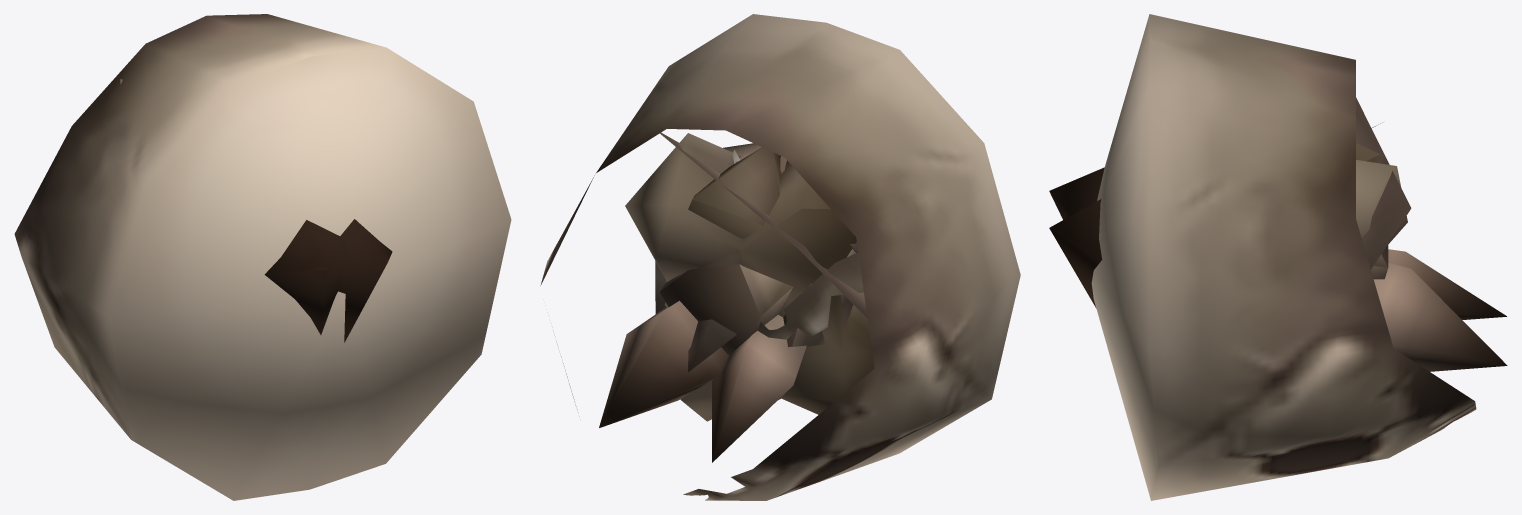
File: model_shatter.glb
3 views of the same model, side by side, from view 1: azimuth 30°, elevation 25°; view 2: azimuth 150°, elevation 25°; view 3: azimuth 270°, elevation 25° (orthographic). The views are drawn at different scales.
Visible parts, largest first — view 1: parts.model_shatter-MeshSets[mesh_skull].Mesh[0], parts.model_shatter-MeshSets[mesh_bicep_l].Mesh[0], parts.model_shatter-MeshSets[mesh_bicep_r].Mesh[0]; view 2: parts.model_shatter-MeshSets[mesh_skull].Mesh[0], parts.model_shatter-MeshSets[mesh_wrist_l].Mesh[0], parts.model_shatter-MeshSets[mesh_bicep_l].Mesh[0], parts.model_shatter-MeshSets[mesh_bicep_r].Mesh[0], parts.model_shatter-MeshSets[mesh_spine_top].Mesh[0], parts.model_shatter-MeshSets[mesh__wrist1_r].Mesh[0], parts.model_shatter-MeshSets[mesh_jaw].Mesh[0], parts.model_shatter-MeshSets[mesh_shoulder_r].Mesh[0], parts.model_shatter-MeshSets[mesh_spine_bottom].Mesh[0], parts.model_shatter-MeshSets[mesh_rib_r].Mesh[0]; view 3: parts.model_shatter-MeshSets[mesh_skull].Mesh[0], parts.model_shatter-MeshSets[mesh_bicep_l].Mesh[0], parts.model_shatter-MeshSets[mesh_bicep_r].Mesh[0], parts.model_shatter-MeshSets[mesh_shoulder_l].Mesh[0], parts.model_shatter-MeshSets[mesh_wrist_l].Mesh[0].
Boxes of the visible parts, x1=… form: parts.model_shatter-MeshSets[mesh_skull].Mesh[0]: x1=14, y1=14, x2=511, y2=500; parts.model_shatter-MeshSets[mesh_bicep_l].Mesh[0]: x1=264, y1=220, x2=351, y2=334; parts.model_shatter-MeshSets[mesh_bicep_r].Mesh[0]: x1=338, y1=219, x2=392, y2=342; parts.model_shatter-MeshSets[mesh_skull].Mesh[0]: x1=540, y1=14, x2=1020, y2=500; parts.model_shatter-MeshSets[mesh_wrist_l].Mesh[0]: x1=625, y1=133, x2=874, y2=421; parts.model_shatter-MeshSets[mesh_bicep_l].Mesh[0]: x1=599, y1=300, x2=728, y2=427; parts.model_shatter-MeshSets[mesh_bicep_r].Mesh[0]: x1=712, y1=315, x2=806, y2=462; parts.model_shatter-MeshSets[mesh_spine_top].Mesh[0]: x1=660, y1=264, x2=792, y2=355; parts.model_shatter-MeshSets[mesh__wrist1_r].Mesh[0]: x1=688, y1=147, x2=781, y2=399; parts.model_shatter-MeshSets[mesh_jaw].Mesh[0]: x1=664, y1=252, x2=863, y2=339; parts.model_shatter-MeshSets[mesh_shoulder_r].Mesh[0]: x1=660, y1=132, x2=867, y2=318; parts.model_shatter-MeshSets[mesh_spine_bottom].Mesh[0]: x1=688, y1=319, x2=736, y2=372; parts.model_shatter-MeshSets[mesh_rib_r].Mesh[0]: x1=783, y1=249, x2=855, y2=347; parts.model_shatter-MeshSets[mesh_skull].Mesh[0]: x1=1091, y1=14, x2=1476, y2=500; parts.model_shatter-MeshSets[mesh_bicep_l].Mesh[0]: x1=1049, y1=167, x2=1507, y2=371; parts.model_shatter-MeshSets[mesh_bicep_r].Mesh[0]: x1=1049, y1=199, x2=1506, y2=319; parts.model_shatter-MeshSets[mesh_shoulder_l].Mesh[0]: x1=1356, y1=97, x2=1411, y2=269; parts.model_shatter-MeshSets[mesh_wrist_l].Mesh[0]: x1=1356, y1=160, x2=1407, y2=246.
Size of the model in its own units: 0.6021 by 0.6213 by 0.6007.
Materials: 1 (1 with a texture image).
